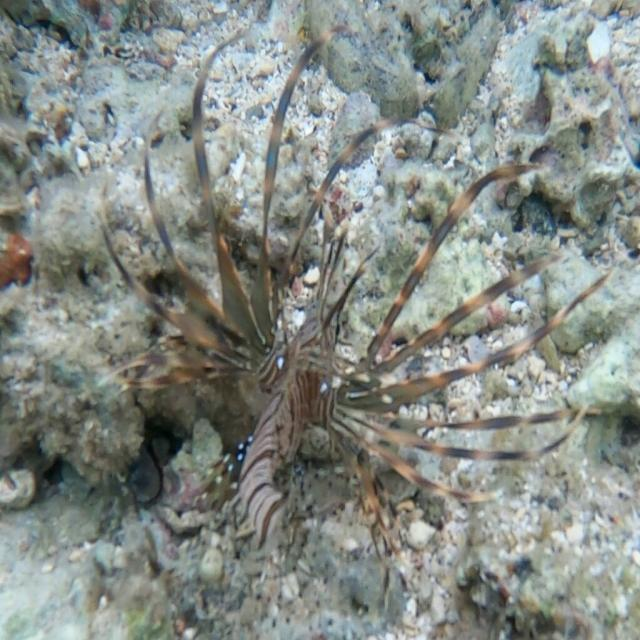Aslan Baligi: (96, 22, 615, 556)
